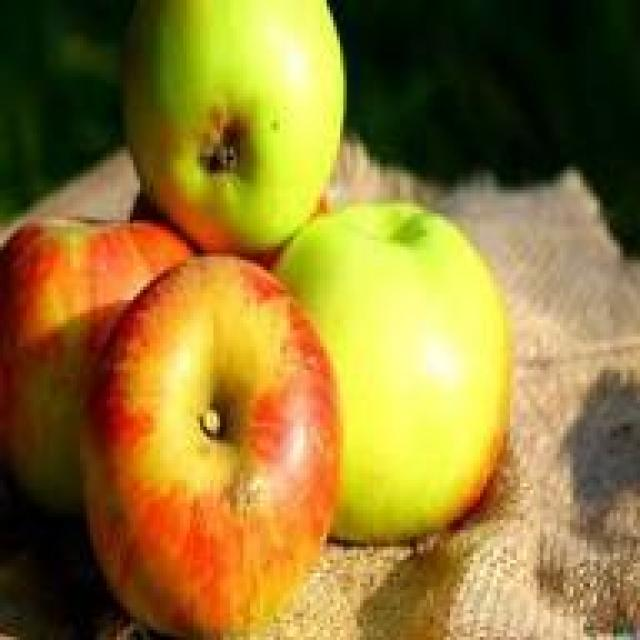apple: (97, 256, 333, 626), (273, 216, 517, 556), (117, 3, 343, 250), (3, 223, 187, 520)
